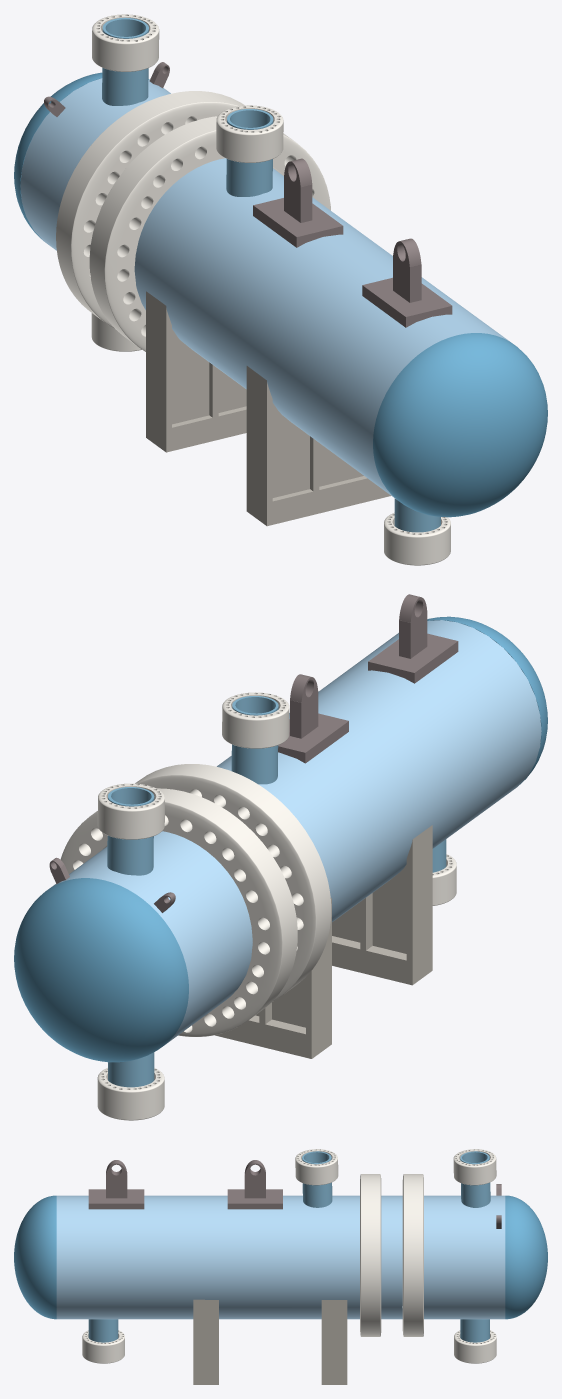
The model's file is trocador de calor--.glb.
The picture shows the model from 3 angles, top to bottom: view 1: azimuth 30°, elevation 25°; view 2: azimuth 150°, elevation 25°; view 3: azimuth 270°, elevation 25°; orthographic projection. The views are drawn at different scales.
Parts seen in each view (by area): view 1: Body1, Body3, Body15, Body13, Body14, Body8, Body9, Body10, Body19, Body17, Body18, Body5 (+4 smaller); view 2: Body1, Body2, Body14, Body15, Body13, Body8, Body10, Body9, Body19, Body17, Body16, Body5 (+4 smaller); view 3: Body1, Body2, Body3, Body15, Body14, Body8, Body13, Body10, Body9, Body19, Body17, Body18 (+5 smaller).
Boxes of the visible parts, x1,y1,x2,y2 form: Body1: (20, 78, 509, 499); Body3: (373, 333, 547, 517); Body15: (89, 116, 330, 351); Body13: (246, 366, 390, 526); Body14: (56, 91, 244, 328); Body8: (146, 291, 246, 452); Body9: (253, 158, 343, 247); Body10: (362, 238, 452, 327); Body19: (216, 105, 283, 162); Body17: (92, 14, 159, 71); Body18: (384, 512, 450, 565); Body5: (102, 17, 148, 105); Body1: (49, 620, 541, 1043); Body2: (14, 878, 188, 1062); Body14: (60, 788, 297, 1036); Body15: (135, 764, 331, 1001); Body13: (332, 825, 432, 985); Body8: (215, 898, 331, 1058); Body10: (368, 594, 458, 683); Body9: (278, 674, 348, 763); Body19: (222, 692, 289, 748); Body17: (97, 783, 164, 839); Body16: (97, 1068, 164, 1120); Body5: (107, 787, 154, 875); Body1: (56, 1195, 505, 1319); Body2: (505, 1195, 547, 1319); Body3: (14, 1195, 56, 1319); Body15: (360, 1174, 381, 1336); Body14: (402, 1174, 423, 1336); Body8: (321, 1300, 347, 1384); Body13: (193, 1299, 218, 1384); Body10: (88, 1160, 144, 1209); Body9: (227, 1160, 282, 1209); Body19: (295, 1149, 338, 1185); Body17: (453, 1149, 496, 1185); Body18: (82, 1330, 124, 1363).
Bounding box in the file's own units: 0.039 × 0.0521 × 0.125.
